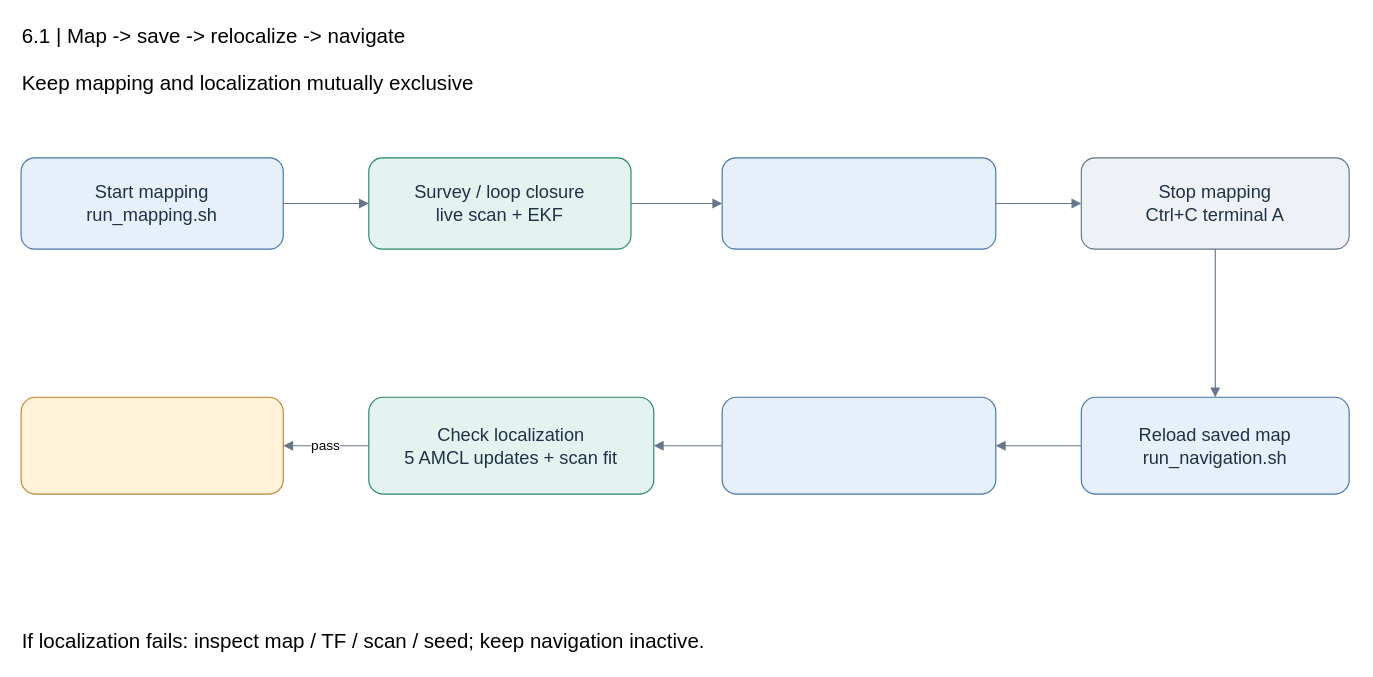
Image size: 1373x677. Some labels were removed from this diagram. The shapes that lost their labels are listed below. From the top down, each one's box as (x1, y1, x2, y2) in pixels, then its label:
(721, 157, 996, 249): Save observed map pgm + yaml + pose graph
(20, 396, 283, 494): Navigate Nav2 active
(721, 396, 996, 494): Seed / rotate relocalize --pose ...
